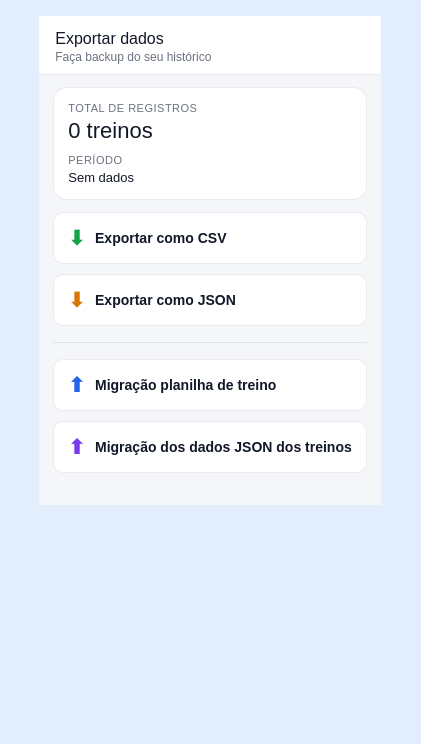
Test: ImportarBackupJson › botão abre e fecha a seção
What coordinates should you click on to do the following:
click the button "⬆ Migração dos dados JSON dos treinos"
I would click on:
 (210, 447)
Its box is x1=53 y1=421 x2=367 y2=473.
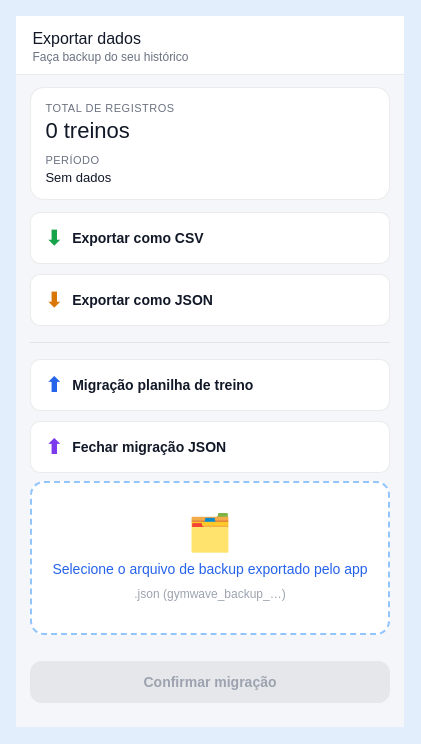
Expected: the text "Selecione o arquivo de backup exportado pelo app" is shown, x1=52 y1=561 x2=368 y2=577
What coordinates should you click on to do the following:
click the button "⬆ Fechar migração JSON"
I would click on:
 (210, 447)
Its box is x1=30 y1=421 x2=390 y2=473.
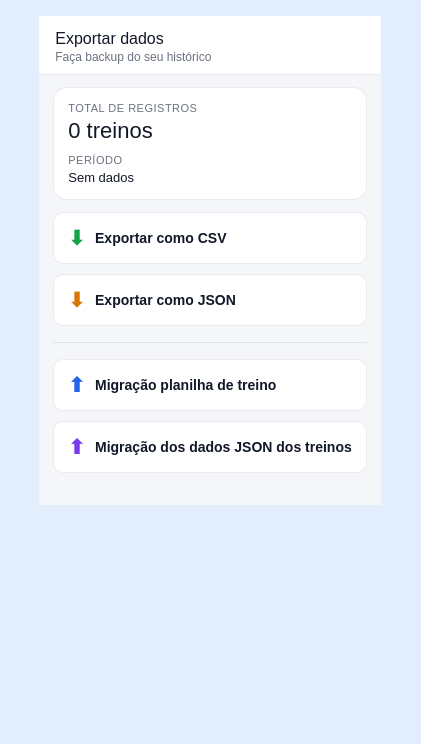
Expected: the button "Selecione o arquivo de backup" is gone
